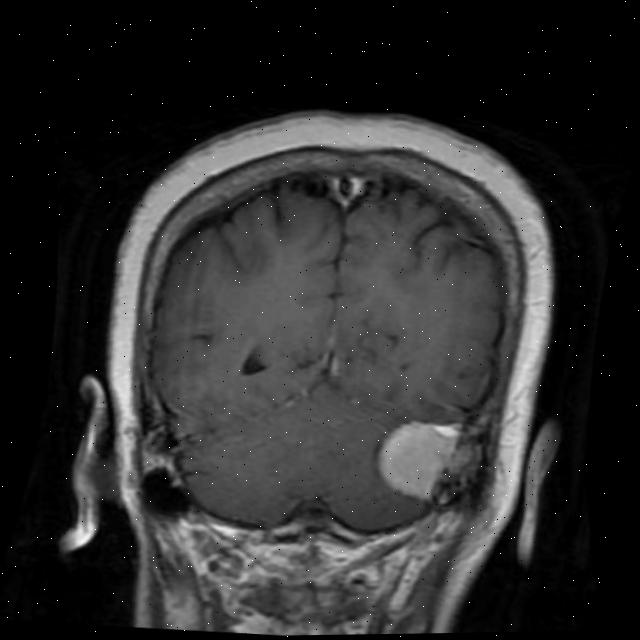Meningioma: (373, 412, 466, 504)
